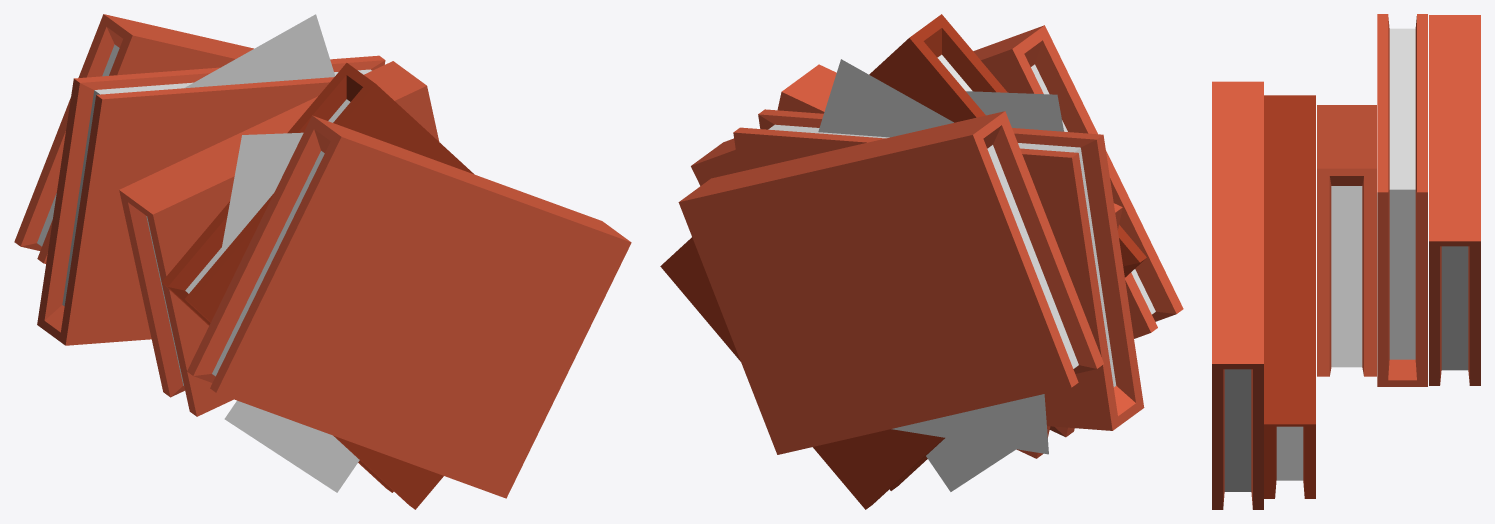
File: Book_Pile_1.glb
3 views of the same model, side by side, from view 1: azimuth 30°, elevation 25°; view 2: azimuth 150°, elevation 25°; view 3: azimuth 270°, elevation 25° (orthographic). The views are drawn at different scales.
Visible parts, largest first — view 1: Book Pile 1; view 2: Book Pile 1; view 3: Book Pile 1.
Part boxes in pixels (left/top/right/bottom): Book Pile 1: left=14, top=14, right=631, bottom=509; Book Pile 1: left=660, top=14, right=1183, bottom=509; Book Pile 1: left=1212, top=14, right=1480, bottom=509.
Size of the model in its own units: 0.3761 by 0.3441 by 0.2087.
Materials: 1 (1 with a texture image).
